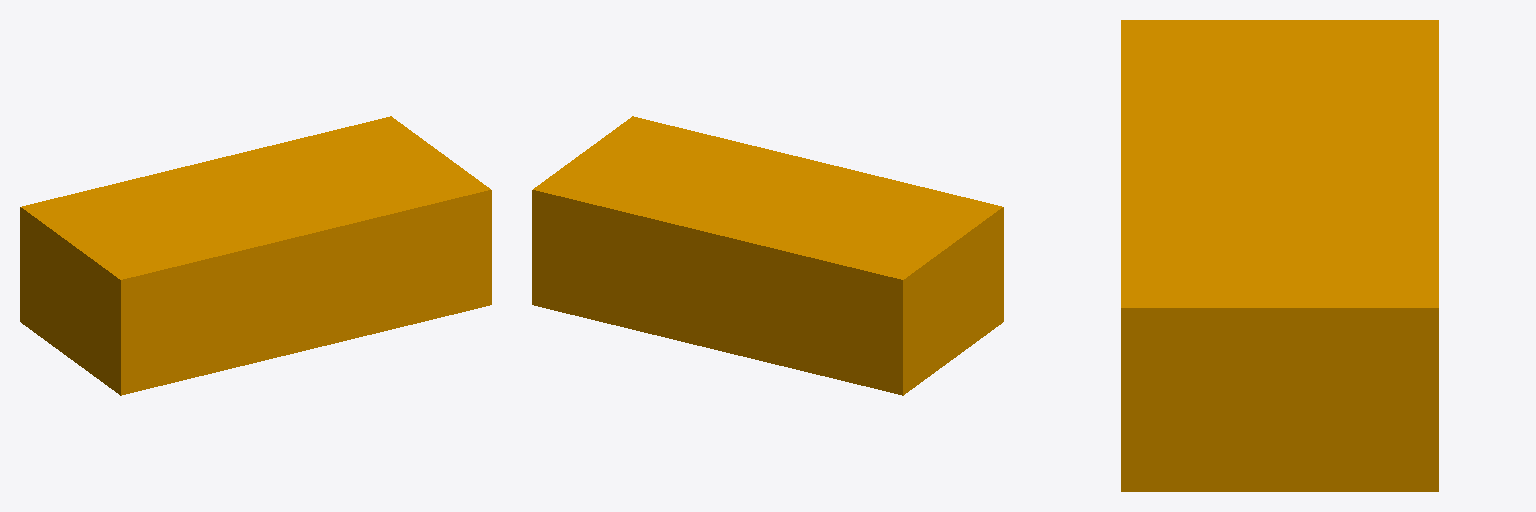
URDF robot description (2x2):
<?xml version='1.0' encoding='UTF-8'?>
<robot name="2x2">
  <link name="base_link">
    <inertial>
      <origin xyz="0.0 0.0 0.0" rpy="0.0 0.0 0.0"/>
      <mass value="0.01"/>
      <inertia ixx="0.1" ixy="0.0" ixz="0.0" iyy="0.1" iyz="0.0" izz="0.1"/>
    </inertial>
    <visual>
      <geometry>
        <box size="0.047 0.022 0.014"/>
      </geometry>
      <material name=""/>
      <origin xyz="0.0 0.0 0.0" rpy="0.0 0.0 0.0"/>
    </visual>
    <collision>
      <geometry>
        <box size="0.047 0.022 0.014"/>
      </geometry>
      <origin xyz="0.0 0.0 0.0" rpy="0.0 0.0 0.0"/>
    </collision>
  </link>
  <material name="">
    <color rgba="0.014 0.601 0.253 1.   "/>
  </material>
  <contact>
    <lateral_friction value="1.0"/>
    <rolling_friction value="0.0"/>
    <contact_cfm value="0.0"/>
    <contact_erp value="1.0"/>
  </contact>
</robot>

--- What the picture shows (computed from the rendered views, not written in the file) ---
The picture shows the robot from 3 angles, left to right: view 1: azimuth 30°, elevation 25°; view 2: azimuth 150°, elevation 25°; view 3: azimuth 270°, elevation 25°; orthographic projection.
Robot: 2x2 — 1 links, 0 joints (none); root link base_link; default pose: every joint at zero.
Links seen in each view (by area): view 1: base_link; view 2: base_link; view 3: base_link.
Boxes of the visible links, x1,y1,x2,y2 form: base_link: (20,116,491,395); base_link: (532,116,1003,395); base_link: (1121,20,1438,491).
Size in the robot's own frame: 0.047 by 0.022 by 0.014 metres.
Geometry: primitives only (box / cylinder / sphere), no mesh files.